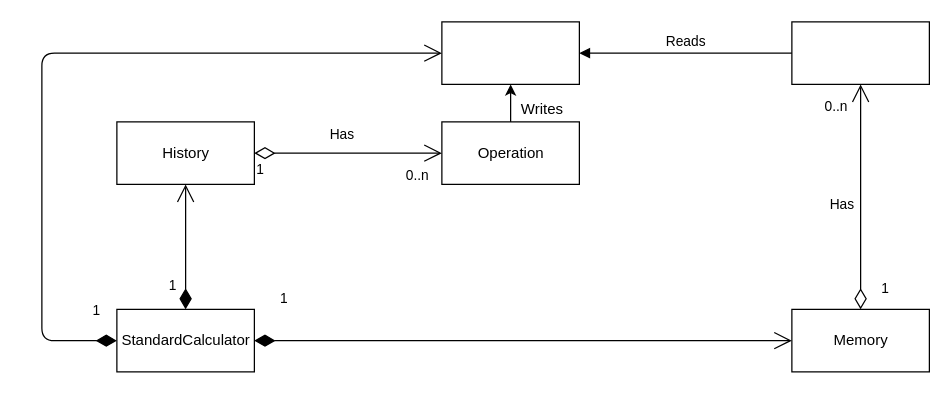
This 951x394 diagram has some shape labels left out. The shapes that lost their labels are listed below. From the top down, each one's box as (x1, y1, x2, y2) in pixels, then its label:
(441, 21, 579, 84): Display
(791, 21, 929, 84): Memory Item
